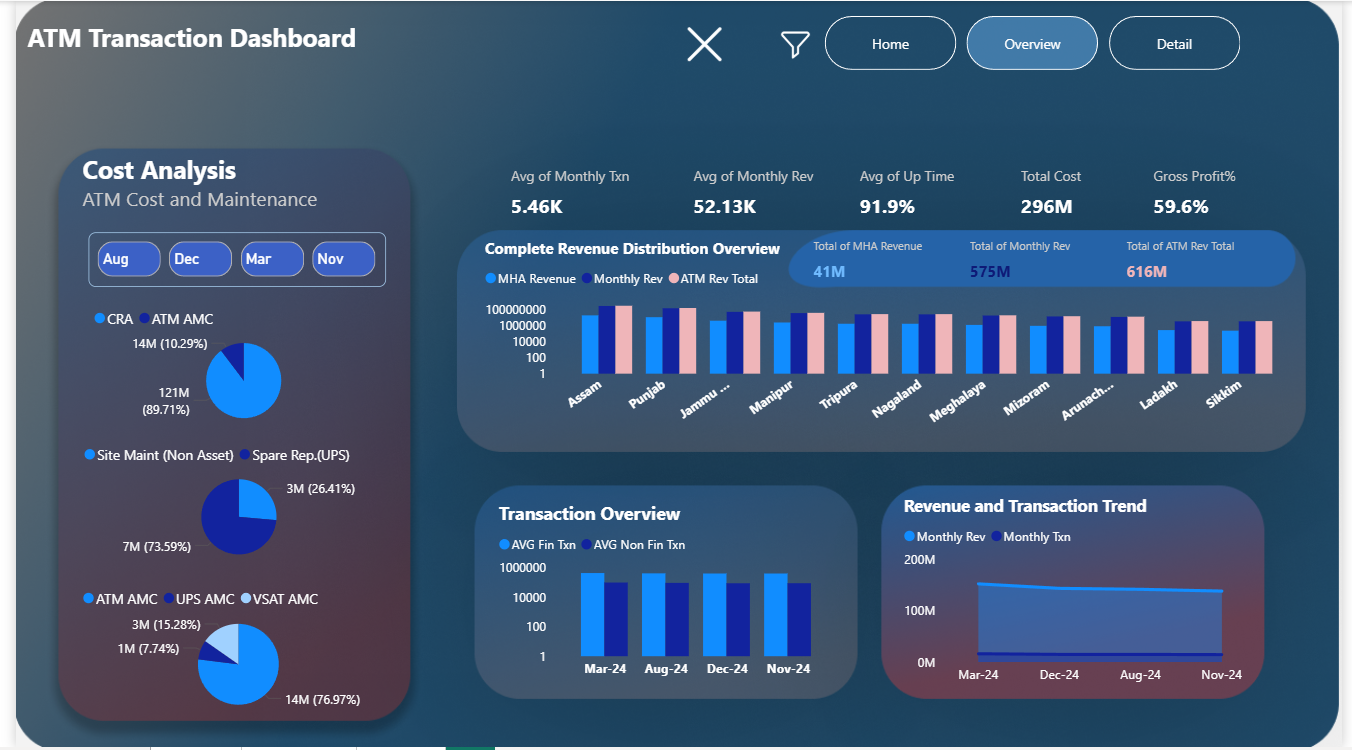

Layout of this report page (visuals, bound fields, positions):
{"tool":"powerbi","page":{"name":"Overview","canvas":[1280,720],"ordinal":1},"visuals":[{"type":"pieChart","fields":{"Y":["Sum(Dataset.CRA)","Sum(Dataset.ATM AMC)"]},"box":[70,285.7,300,131.4],"z":0},{"type":"pieChart","fields":{"Y":["Sum(Dataset.ATM AMC)","Sum(Dataset.UPS AMC)","Sum(Dataset.VSAT AMC)"]},"box":[58.6,555.7,311.4,138.6],"z":1000},{"type":"pieChart","fields":{"Y":["Sum(Dataset.Site Maint (Non Asset))","Sum(Dataset.Spare Rep.(UPS))"]},"box":[60,417.1,310,131.4],"z":2000},{"type":"clusteredColumnChart","title":"Complete Revenue Distribution Overview","fields":{"Y":["Sum(Dataset.MHA Revenue)","Sum(Dataset.Monthly Rev)","Sum(Dataset.ATM Rev Total)"],"Category":["Dataset.STATE"]},"box":[447.1,228.6,795.7,192.9],"z":3000},{"type":"clusteredColumnChart","title":"Transaction Overview","fields":{"Y":["Sum(Dataset.AVG Fin Txn)","Sum(Dataset.AVG Non Fin Txn)"],"Category":["Dataset.month-yr"]},"box":[461.4,482.9,337.1,180],"z":4000},{"type":"areaChart","title":"Revenue and Transaction Trend","fields":{"Category":["Dataset.month-yr"],"Y":["Sum(Dataset.Monthly Rev)","Sum(Dataset.Monthly Txn)"]},"box":[851.4,475.7,348.6,192.9],"z":5000},{"type":"advancedSlicerVisual","fields":{"Values":["Dataset.short_month"]},"box":[70,222.9,287.1,52.9],"z":6000},{"type":"textbox","box":[58.6,141.4,264.3,71.4],"z":7000},{"type":"cardVisual","fields":{"Data":["Avg(Dataset.Monthly Txn)"]},"box":[460.9,141.8,153.8,73.8],"z":8000},{"type":"cardVisual","fields":{"Data":["Avg(Dataset.Monthly Rev)"]},"box":[637.1,141.8,160,75],"z":9000},{"type":"cardVisual","fields":{"Data":["Avg(Dataset.Up Time)"]},"box":[797.1,141.8,135,73.8],"z":10000},{"type":"cardVisual","fields":{"Data":["Sum(Dataset. Total Cost  )"]},"box":[953.4,141.8,116.2,73.8],"z":11000},{"type":"cardVisual","fields":{"Data":["Dataset.Gross_profit_percentage"]},"box":[1080.9,141.8,118.8,73.8],"z":12000},{"type":"cardVisual","fields":{"Data":["Sum(Dataset.MHA Revenue)","Sum(Dataset.Monthly Rev)","Sum(Dataset.ATM Rev Total)"]},"box":[752.9,212.9,455.7,72.9],"z":13000},{"type":"pageNavigator","box":[780,14.3,402.9,52.9],"z":14000},{"type":"textbox","box":[5.7,14.3,444.3,52.9],"z":15000},{"type":"image","box":[731.4,20,42.9,42.9],"z":17000},{"type":"image","box":[637.1,20,55.7,42.9],"z":18000}]}

Visuals, with their boxes in screenshot pixels (x1, y1, x2, y2), scaled from the page's 1280x720 canvas onto the 1352x750 screenshot:
pieChart - Sum(Dataset.CRA) x Sum(Dataset.ATM AMC): bbox=(74, 298, 391, 434)
pieChart - Sum(Dataset.ATM AMC) x Sum(Dataset.UPS AMC): bbox=(62, 579, 391, 723)
pieChart - Sum(Dataset.Site Maint (Non Asset)) x Sum(Dataset.Spare Rep.(UPS)): bbox=(63, 434, 391, 571)
"Complete Revenue Distribution Overview" clusteredColumnChart: bbox=(472, 238, 1313, 439)
"Transaction Overview" clusteredColumnChart: bbox=(487, 503, 843, 691)
"Revenue and Transaction Trend" areaChart: bbox=(899, 496, 1268, 696)
advancedSlicerVisual - Dataset.short_month: bbox=(74, 232, 377, 287)
textbox: bbox=(62, 147, 341, 222)
cardVisual - Avg(Dataset.Monthly Txn): bbox=(487, 148, 649, 225)
cardVisual - Avg(Dataset.Monthly Rev): bbox=(673, 148, 842, 226)
cardVisual - Avg(Dataset.Up Time): bbox=(842, 148, 985, 225)
cardVisual - Sum(Dataset. Total Cost  ): bbox=(1007, 148, 1130, 225)
cardVisual - Dataset.Gross_profit_percentage: bbox=(1142, 148, 1267, 225)
cardVisual - Sum(Dataset.MHA Revenue) x Sum(Dataset.Monthly Rev): bbox=(795, 222, 1277, 298)
pageNavigator: bbox=(824, 15, 1249, 70)
textbox: bbox=(6, 15, 475, 70)
image: bbox=(773, 21, 818, 66)
image: bbox=(673, 21, 732, 66)
